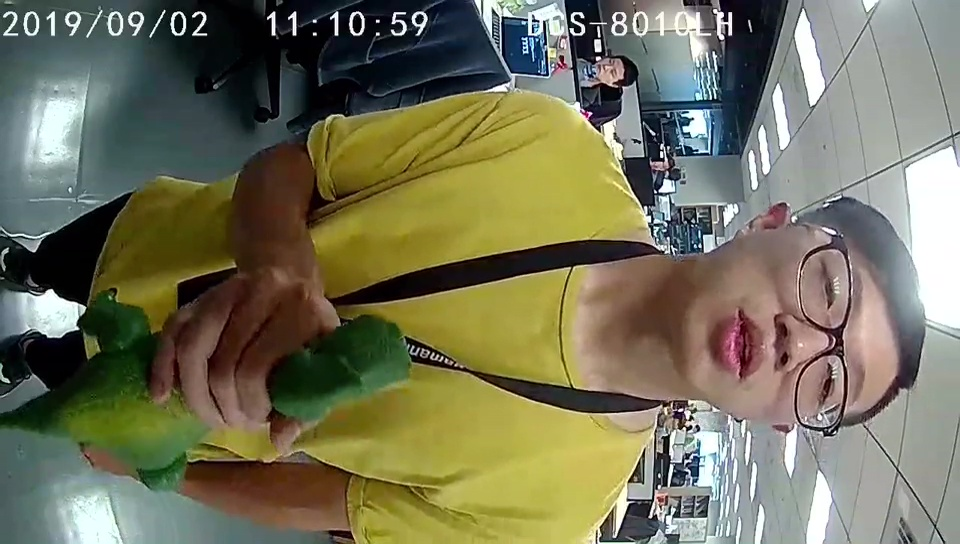rex: (89, 312, 413, 491)
